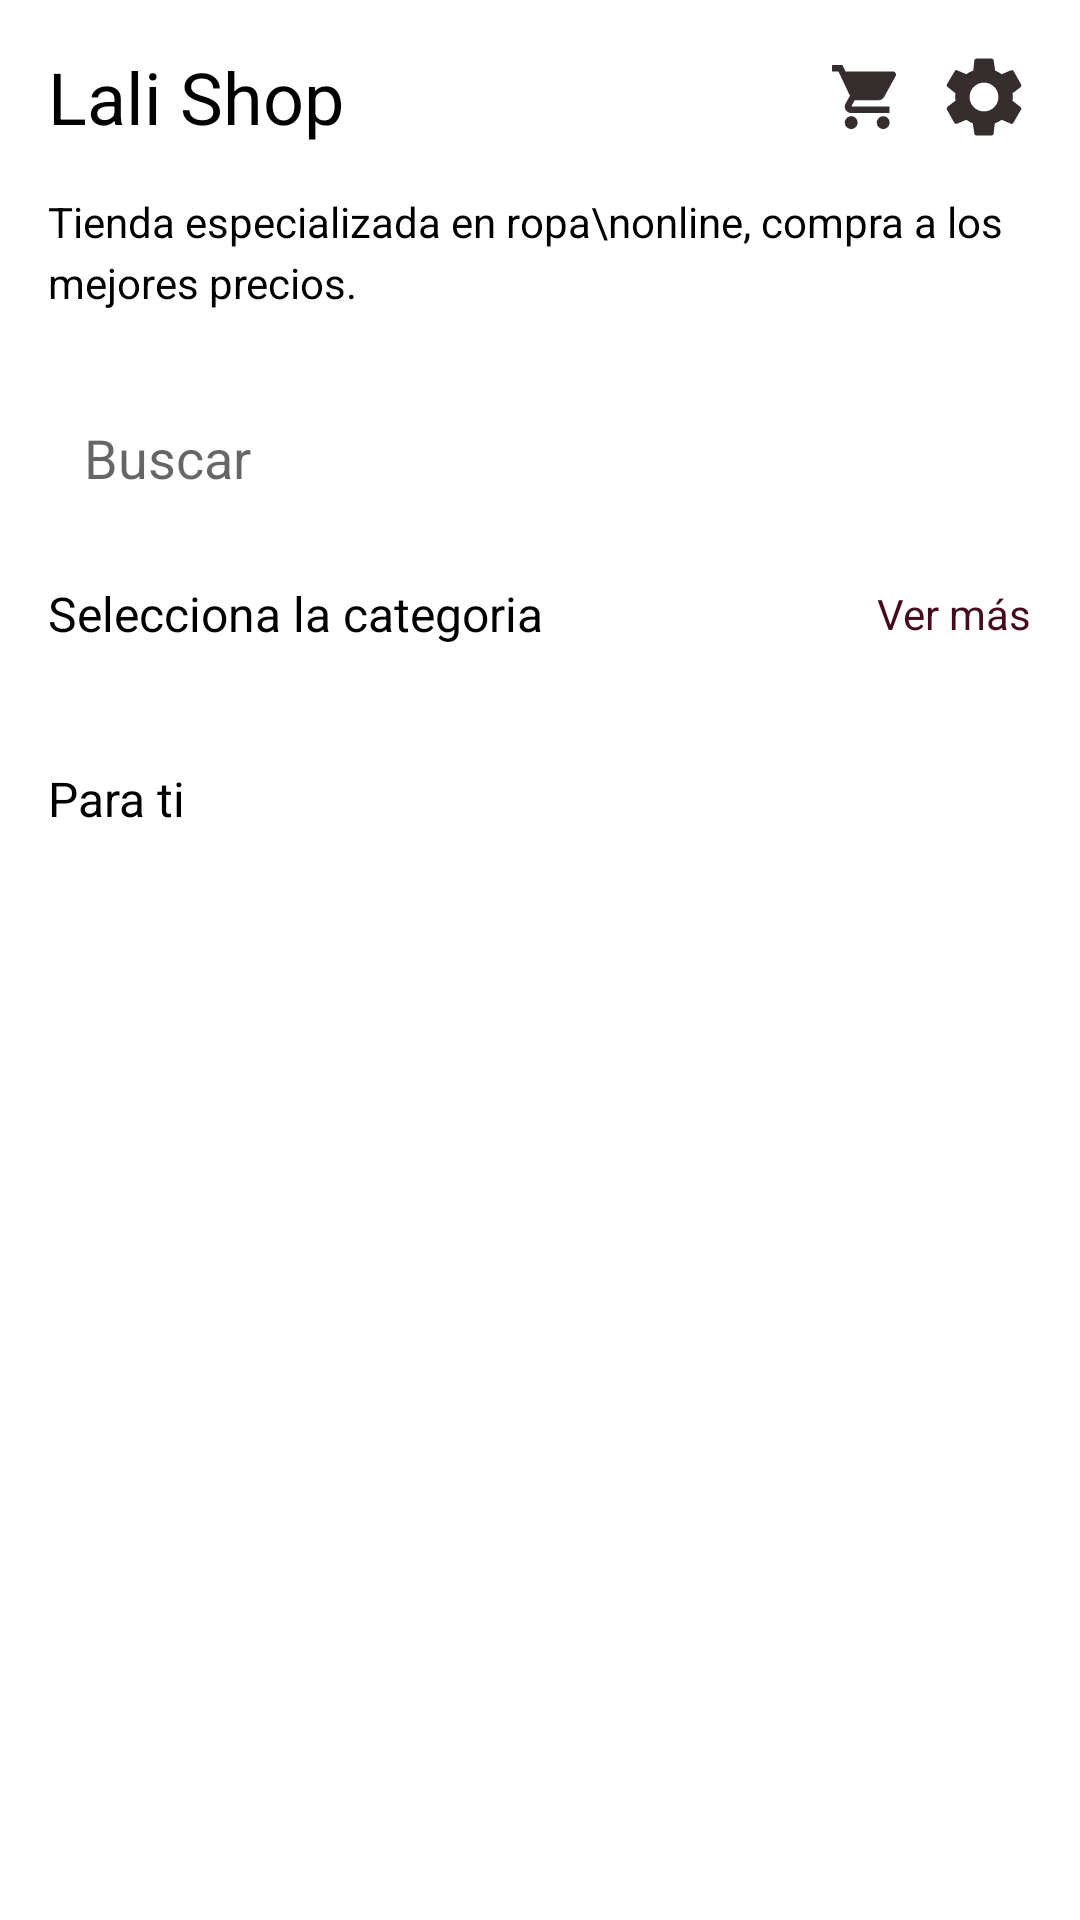

Icon click points for this 1080w x 1920h phone screenshot, format (x=x, y=y):
account settings: (x=984, y=97)
cart: (x=864, y=97)
